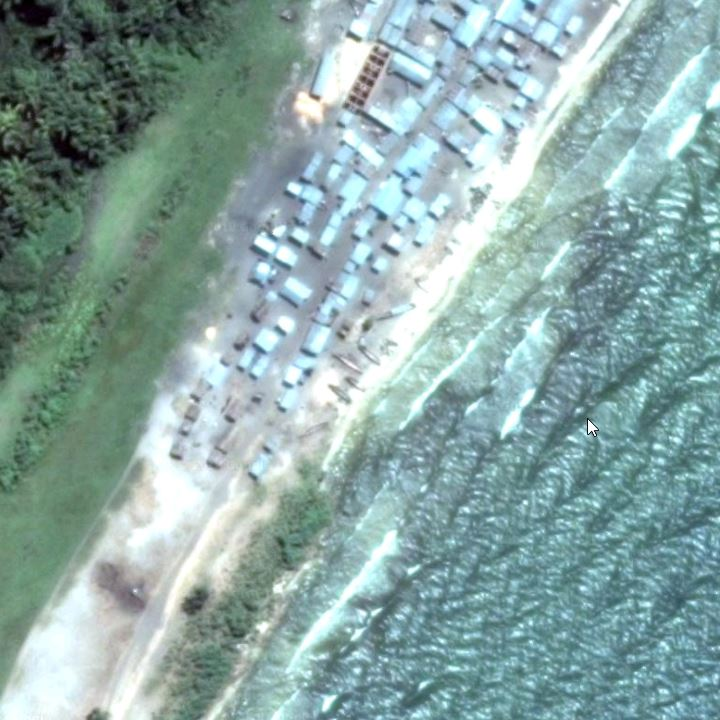boat: (373, 300, 420, 324), (351, 337, 384, 371), (322, 383, 357, 407), (328, 351, 364, 374), (338, 375, 371, 393)
